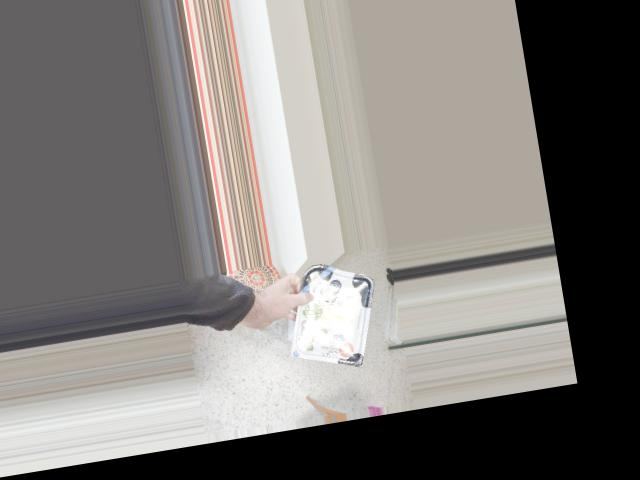cheese: (295, 263, 374, 362)
